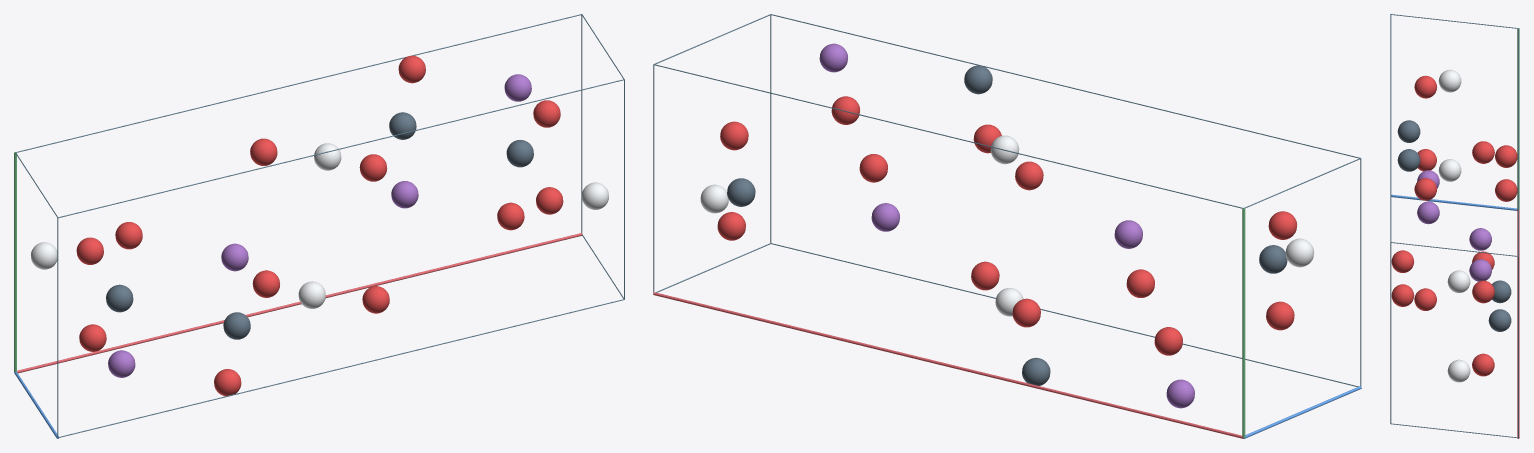
File: chat-kalicinite.glb
3 renders of one model, left to right at view 1: azimuth 30°, elevation 25°; view 2: azimuth 150°, elevation 25°; view 3: azimuth 270°, elevation 25°, orthographic. The views are drawn at different scales.
Visible parts, largest first — view 1: Ô mạng và các trục a, b, c, K · K · 1 (×4), O(2) · O · 1 (×4), O(1) · O · 1 (×4), C · C · 1 (×4), O(3) · O · 1 (×4), H · H · 1 (×4); view 2: Ô mạng và các trục a, b, c, O(2) · O · 1 (×4), K · K · 1 (×2), O(3) · O · 1 (×2), O(1) · O · 1, C · C · 1; view 3: Ô mạng và các trục a, b, c, H · H · 1 (×4), O(1) · O · 1 (×4), C · C · 1 (×4), O(2) · O · 1 (×4), O(3) · O · 1 (×4), K · K · 1 (×4).
Boxes of the visible parts, box(x1,y1,x2,y2) form: Ô mạng và các trục a, b, c: box(14, 14, 624, 438); K · K · 1 (×4): box(108, 74, 531, 377); O(2) · O · 1 (×4): box(79, 100, 560, 351); O(1) · O · 1 (×4): box(115, 55, 524, 396); C · C · 1 (×4): box(106, 112, 533, 339); O(3) · O · 1 (×4): box(76, 154, 563, 297); H · H · 1 (×4): box(30, 143, 608, 308); Ô mạng và các trục a, b, c: box(653, 14, 1361, 438); O(2) · O · 1 (×4): box(720, 121, 1294, 330); K · K · 1 (×2): box(819, 43, 1194, 408); O(3) · O · 1 (×2): box(717, 212, 1040, 327); O(1) · O · 1: box(1154, 327, 1182, 355); C · C · 1: box(964, 65, 992, 94); Ô mạng và các trục a, b, c: box(1390, 14, 1519, 438); H · H · 1 (×4): box(1438, 69, 1470, 382); O(1) · O · 1 (×4): box(1391, 145, 1517, 306); C · C · 1 (×4): box(1397, 120, 1511, 331); O(2) · O · 1 (×4): box(1414, 141, 1494, 310); O(3) · O · 1 (×4): box(1414, 75, 1494, 376); K · K · 1 (×4): box(1417, 170, 1491, 281).
Size of the model in its own units: 16.15 by 6.1 by 3.64.
